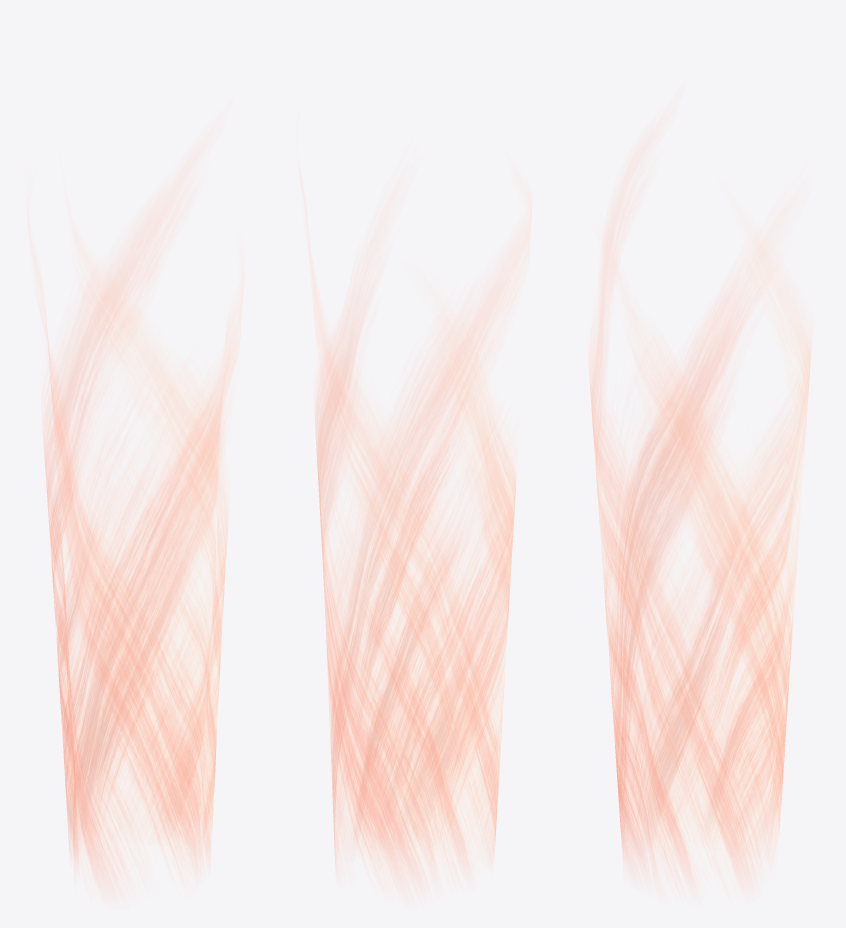
Rendered from clear_devil_core_2.glb.
3 views of the same model, side by side, from view 1: azimuth 30°, elevation 25°; view 2: azimuth 150°, elevation 25°; view 3: azimuth 270°, elevation 25° (orthographic).
Parts seen in each view (by area): view 1: devil_core_2; view 2: devil_core_2; view 3: devil_core_2.
Part boxes in pixels (left/top/right/bottom): devil_core_2: left=28, top=151, right=243, bottom=889; devil_core_2: left=305, top=198, right=531, bottom=889; devil_core_2: left=589, top=143, right=812, bottom=886.
Bounding box in the file's own units: 5.57 × 21.2 × 6.15.
1 material, 1 textured.
